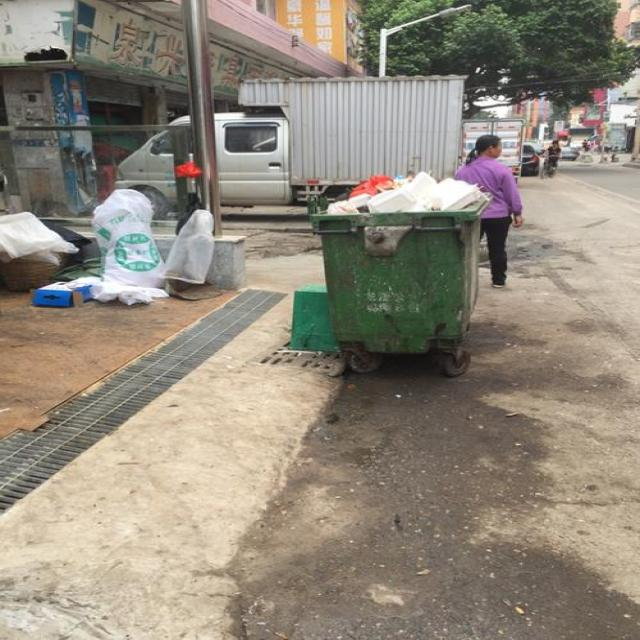garbage: (32, 189, 215, 306)
overflow: (310, 170, 486, 351)
